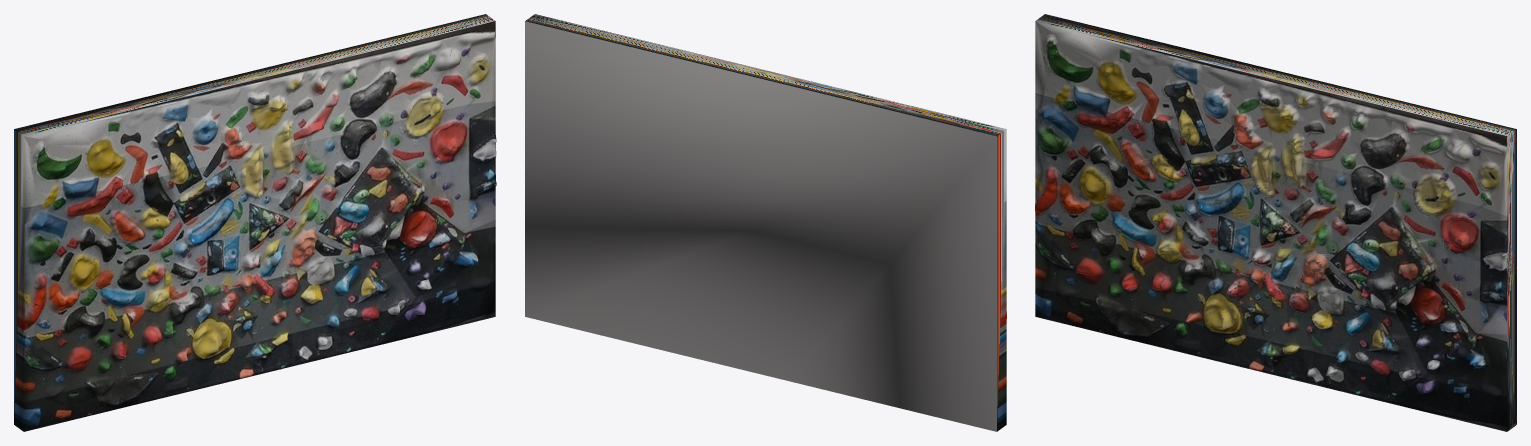
File: photo-wall-relief-web.glb
3 renders of one model, left to right at view 1: azimuth 30°, elevation 25°; view 2: azimuth 150°, elevation 25°; view 3: azimuth 330°, elevation 25°, orthographic.
Parts seen in each view (by area): view 1: Photo Wall Relief - one watertight stitched solid; view 2: Photo Wall Relief - one watertight stitched solid; view 3: Photo Wall Relief - one watertight stitched solid.
Boxes of the visible parts, box(x1,y1,x2,y2) form: Photo Wall Relief - one watertight stitched solid: box(14, 14, 496, 431); Photo Wall Relief - one watertight stitched solid: box(525, 14, 1006, 431); Photo Wall Relief - one watertight stitched solid: box(1035, 14, 1516, 431).
Bounding box in the file's own units: 3.6 × 2.15 × 0.2095.
1 material, 1 textured.
